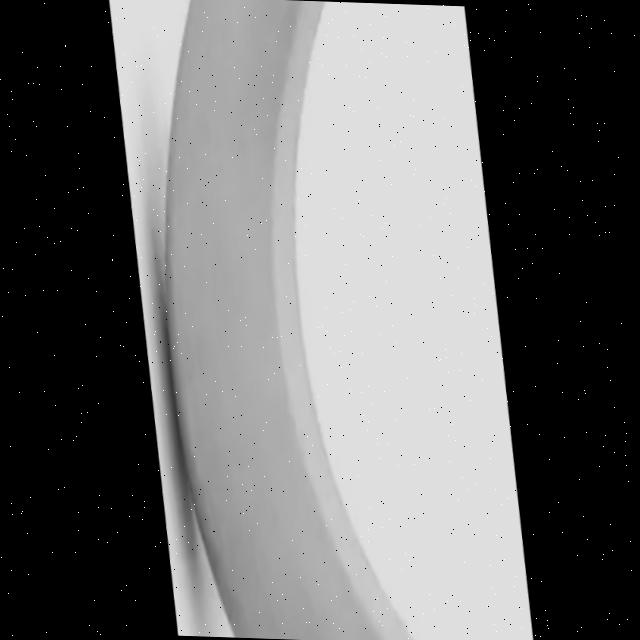banana: (148, 0, 431, 640)
